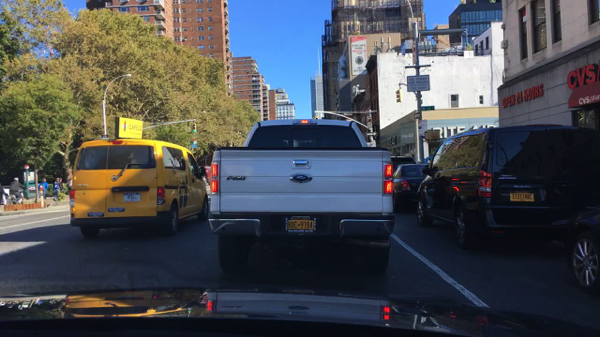car: (206, 118, 395, 273), (414, 123, 599, 251), (69, 116, 210, 240), (563, 205, 599, 296), (391, 164, 429, 213), (390, 156, 416, 172)
motor: (8, 187, 26, 205)
person: (52, 177, 61, 201), (0, 184, 9, 206), (59, 178, 64, 194)
rider: (8, 177, 25, 203)
traffic light: (422, 130, 441, 143), (395, 90, 401, 102), (191, 124, 196, 133)
traffic sign: (406, 74, 430, 93), (412, 40, 417, 65), (365, 116, 373, 130), (420, 106, 436, 112), (400, 42, 405, 57), (190, 138, 197, 148), (365, 132, 378, 137), (413, 112, 422, 119)
